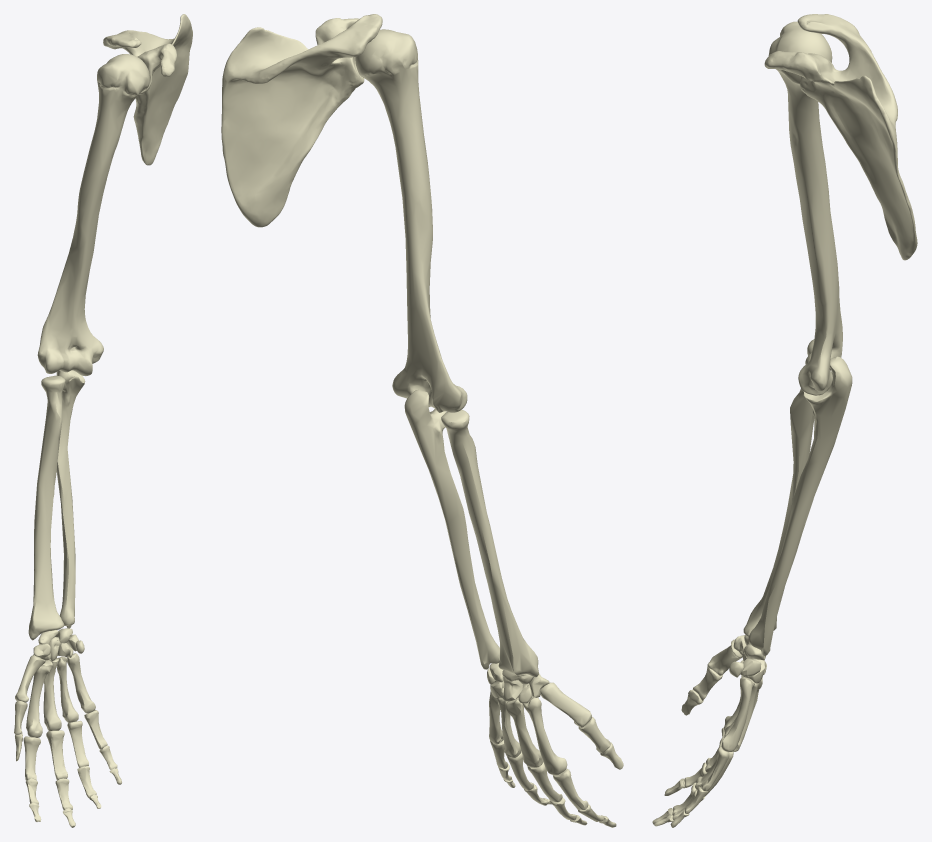
File: right arm.fbx
The picture shows the model from 3 angles, left to right: view 1: azimuth 30°, elevation 25°; view 2: azimuth 150°, elevation 25°; view 3: azimuth 270°, elevation 25°; orthographic projection. The views are drawn at different scales.
Visible parts, largest first — view 1: Right humerus, Right scapula, Right radius, Right ulna, Right second metacarpal bone, Right third metacarpal bone, Right fourth metacarpal bone, Right fifth metacarpal bone, Proximal phalanx of right middle finger, Right first metacarpal bone, Proximal phalanx of right ring finger, Proximal phalanx of right index finge (+1 smaller); view 2: Right scapula, Right humerus, Right ulna, Right radius, Right second metacarpal bone, Right third metacarpal bone, Right first metacarpal bone; view 3: Right scapula, Right humerus, Right ulna, Right radius, Right fifth metacarpal bone, Right first metacarpal bone.
Boxes of the visible parts, x1,y1,x2,y2 form: Right humerus: (37, 54, 149, 376); Right scapula: (103, 14, 192, 165); Right radius: (28, 375, 65, 640); Right ulna: (56, 370, 85, 628); Right second metacarpal bone: (26, 660, 52, 737); Right third metacarpal bone: (43, 658, 61, 731); Right fourth metacarpal bone: (56, 656, 78, 722); Right fifth metacarpal bone: (67, 653, 95, 713); Proximal phalanx of right middle finger: (46, 730, 67, 780); Right first metacarpal bone: (15, 655, 45, 702); Proximal phalanx of right ring finger: (67, 721, 88, 767); Proximal phalanx of right index finge: (23, 736, 40, 780); Right scapula: (221, 14, 382, 227); Right humerus: (355, 29, 467, 412); Right ulna: (404, 389, 499, 669); Right radius: (441, 409, 538, 677); Right second metacarpal bone: (522, 696, 567, 775); Right third metacarpal bone: (505, 698, 543, 767); Right first metacarpal bone: (540, 682, 591, 727); Right scapula: (764, 14, 917, 260); Right humerus: (768, 21, 842, 395); Right ulna: (748, 356, 852, 655); Right radius: (743, 388, 814, 636); Right fifth metacarpal bone: (721, 677, 753, 752); Right first metacarpal bone: (707, 639, 742, 675).
Size of the model in its own units: 2669 by 6988 by 1908.
